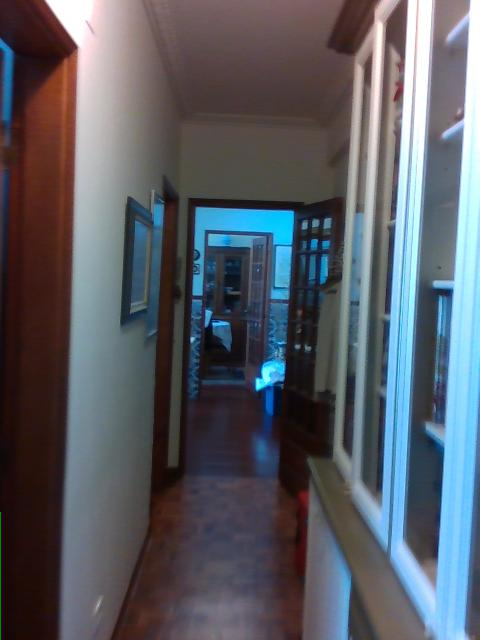door: (277, 198, 340, 492), (245, 235, 268, 395)
